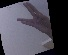hand: (15, 1, 51, 39)
